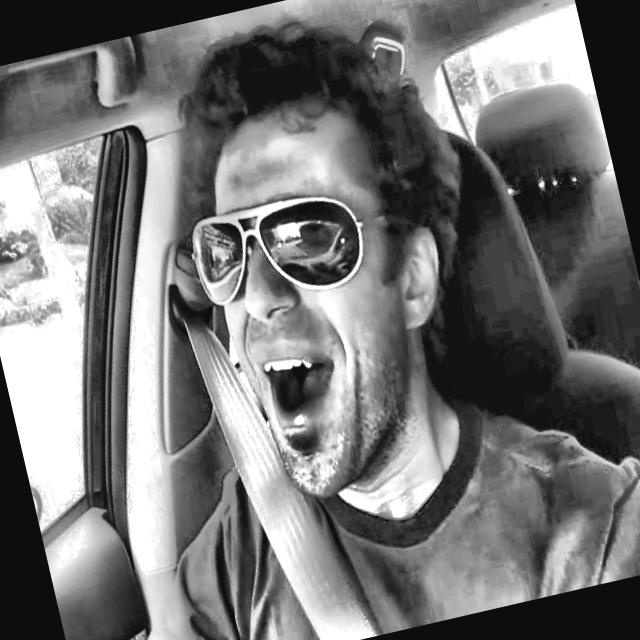open_mouth: (233, 331, 356, 454)
